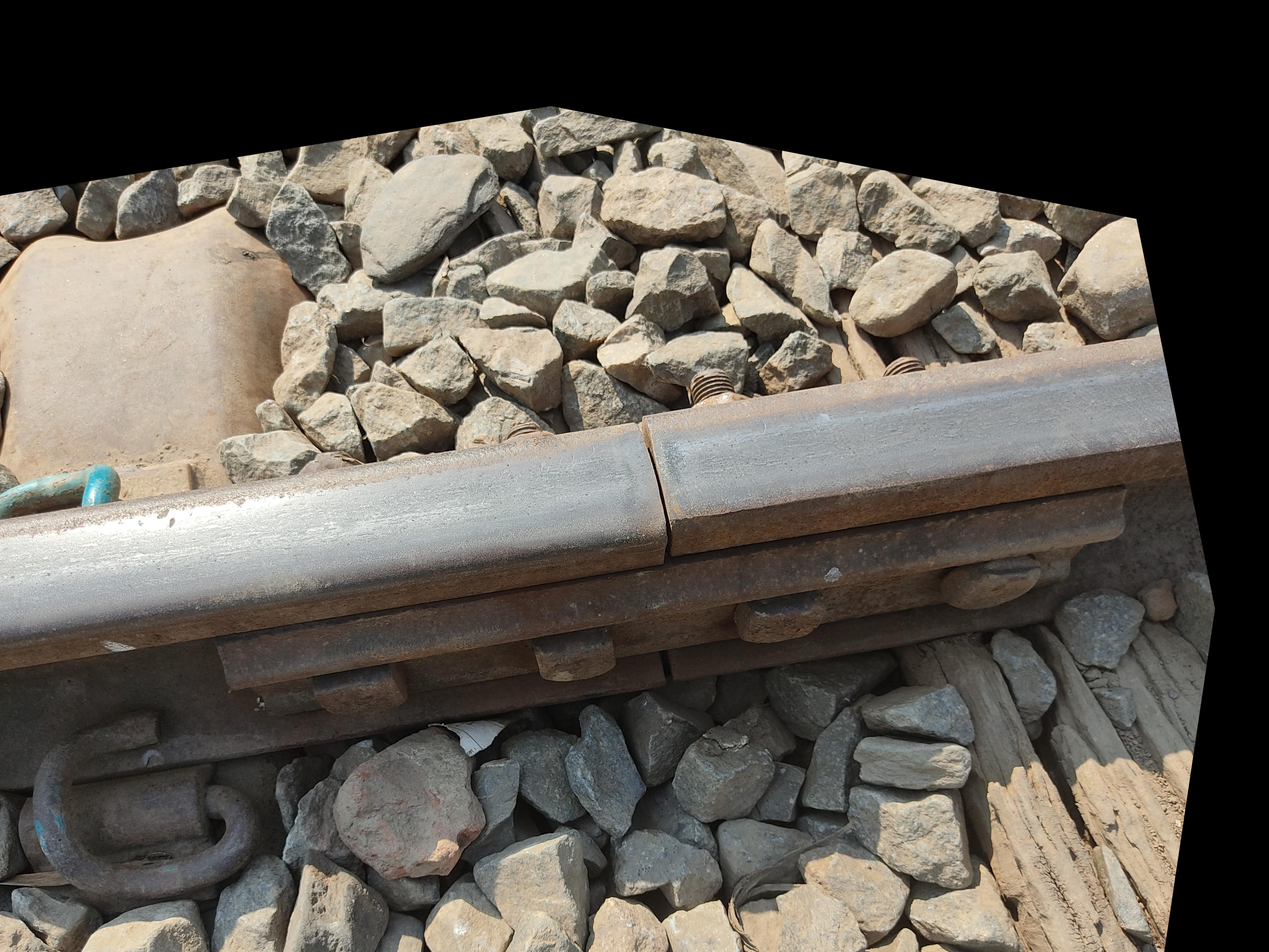person: (418, 566, 632, 791), (498, 814, 581, 896)
